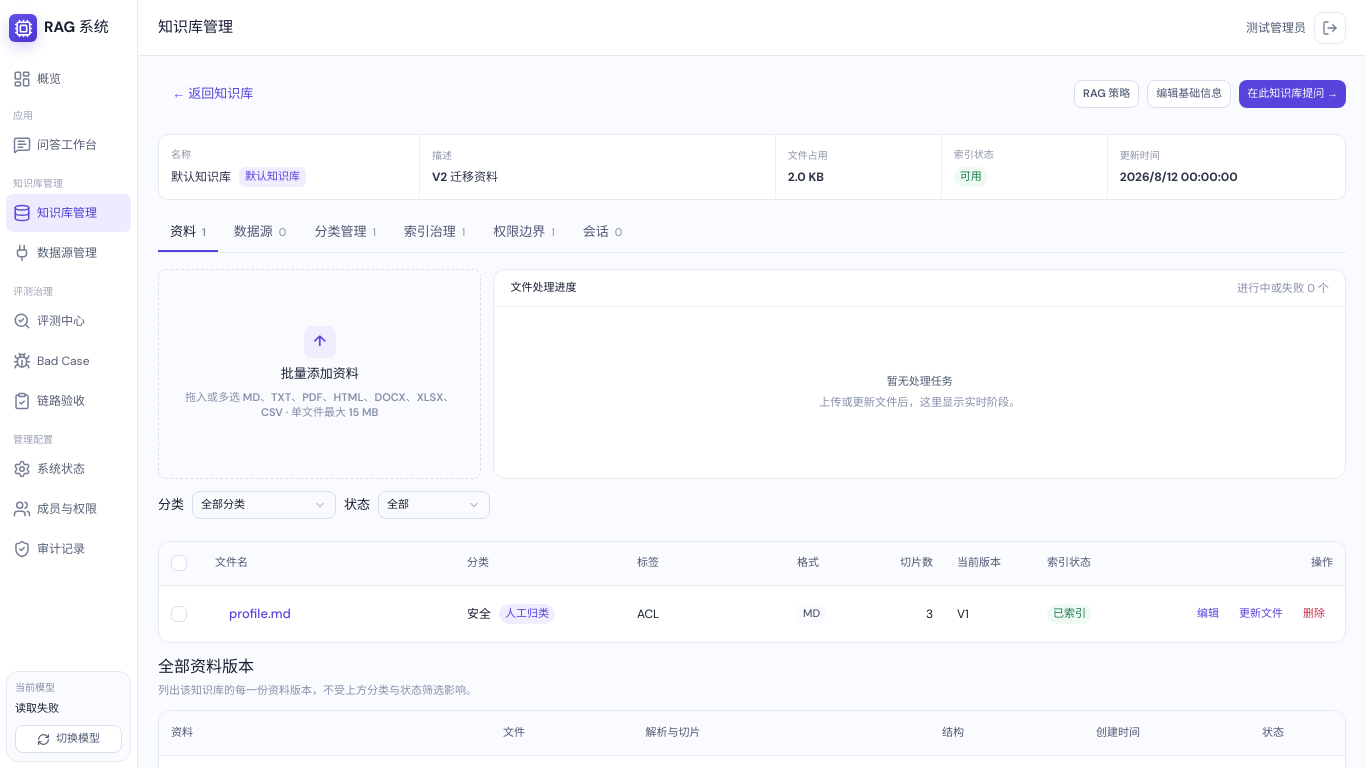
Test: 知识库名称冲突时保留编辑内容并显示后端错误
This screenshot has width=1366, height=768.
Click the button "编辑基础信息": (1189, 94) [1147,80,1231,108]
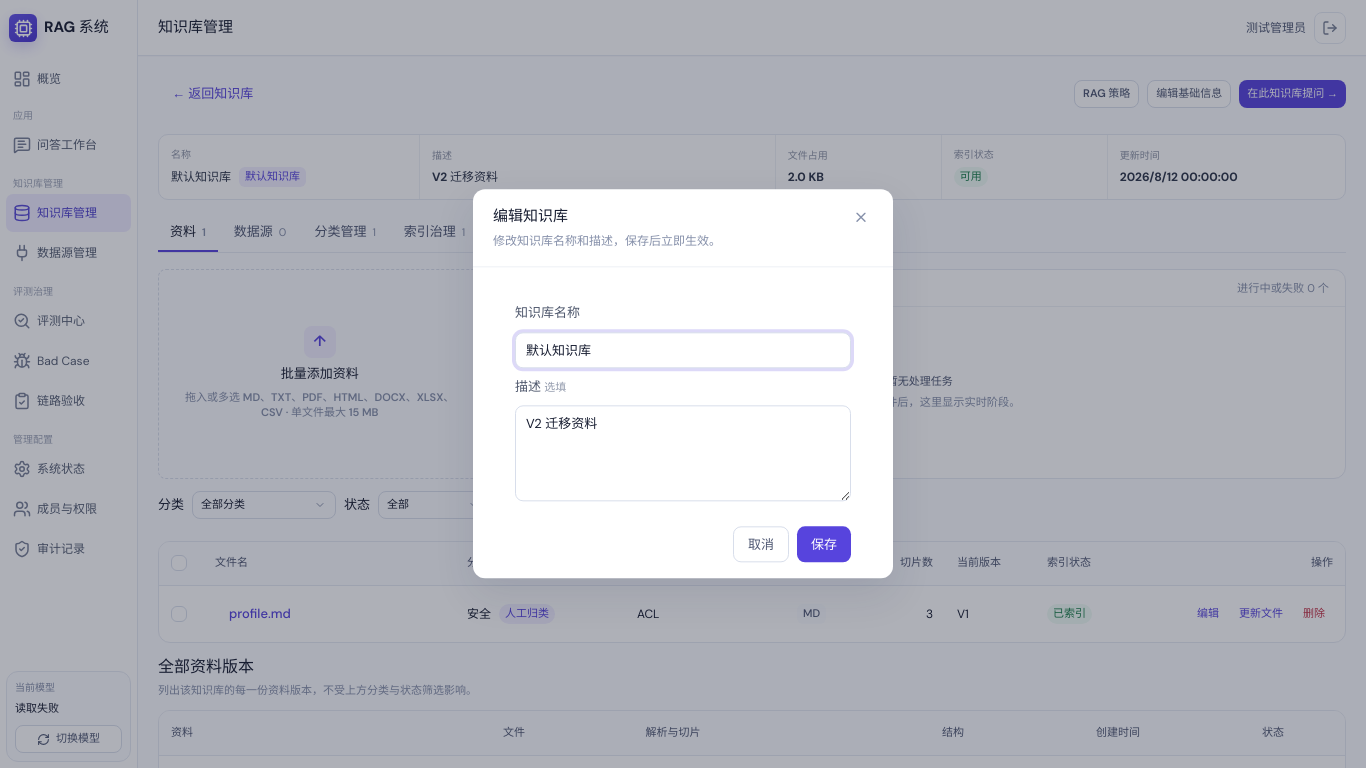
Replace the text in the field labelled "知识库名称" with "重复名称": (683, 350) [515,332,851,368]
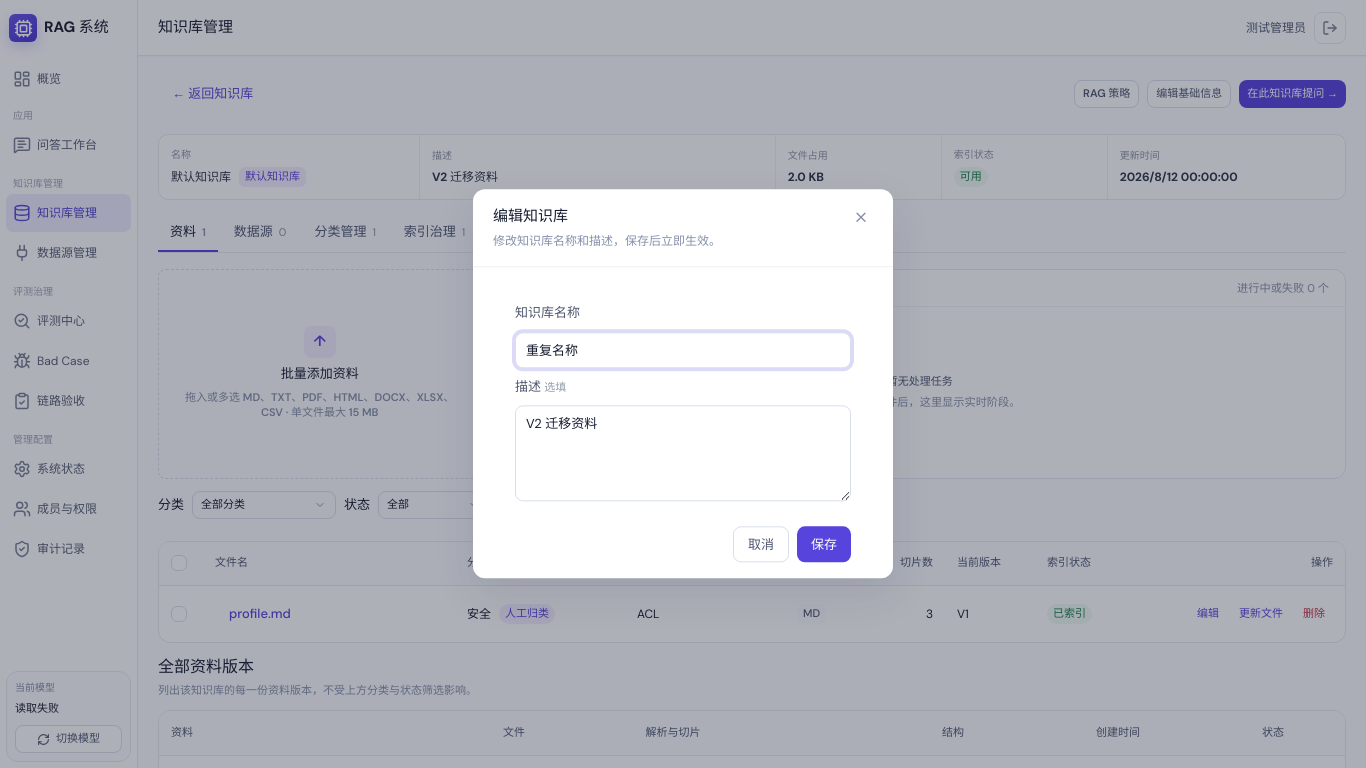
Click the button "保存": (824, 545) [797,527,851,563]
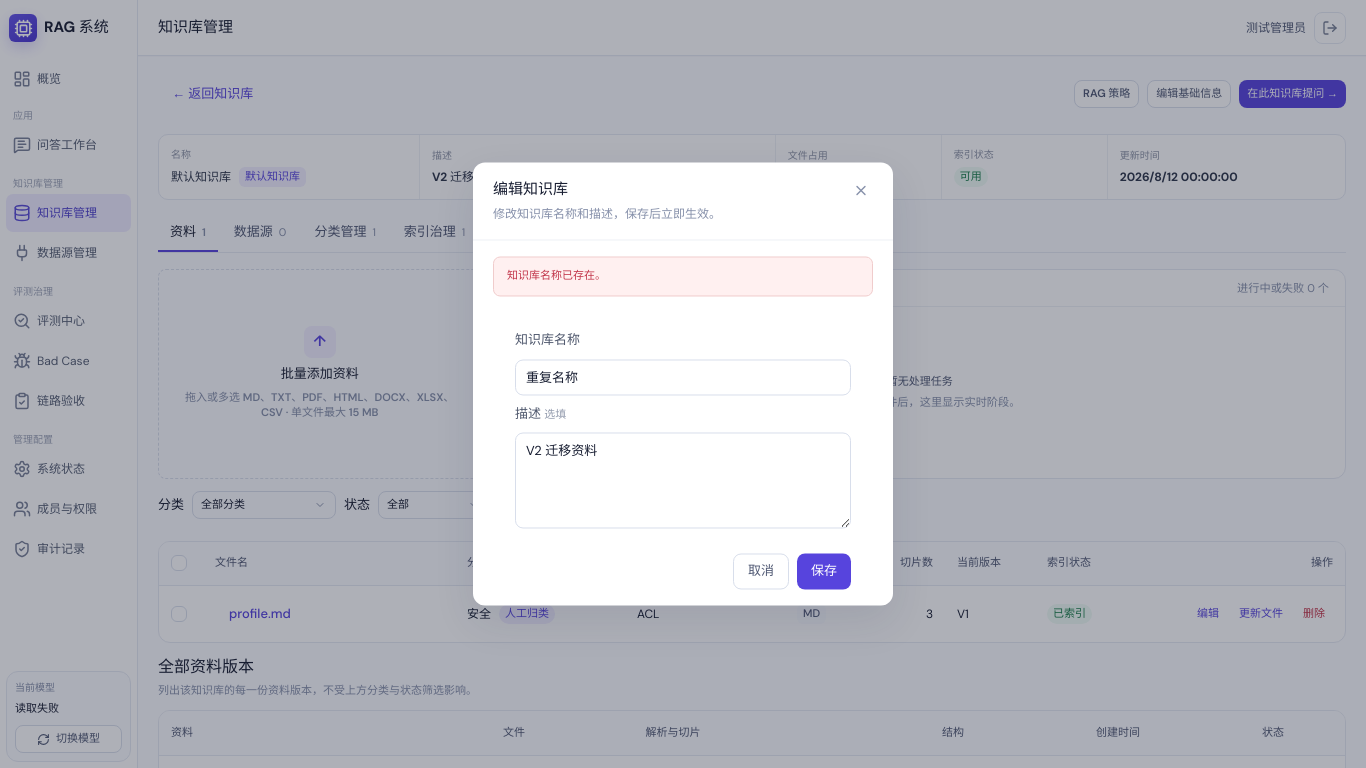
expect the dialog "编辑知识库" is shown: met, box [473,162,893,606]
expect the text "知识库名称已存在。" is shown: met, box [493,257,873,296]
